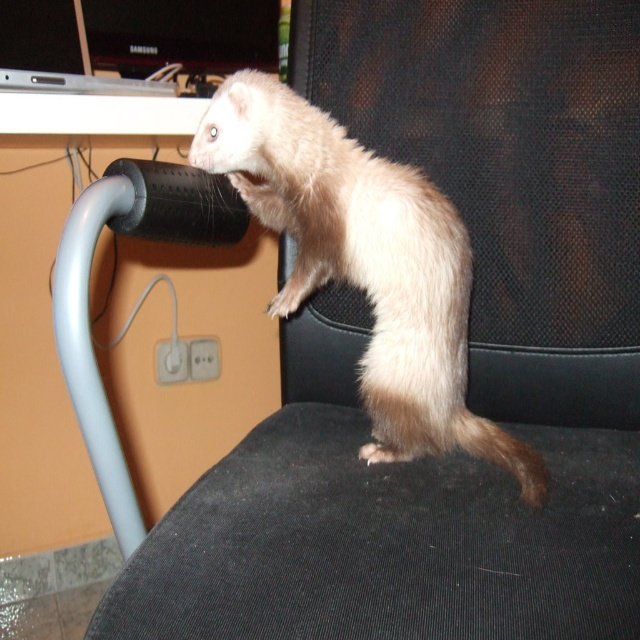Mouse: (165, 68, 553, 512)
